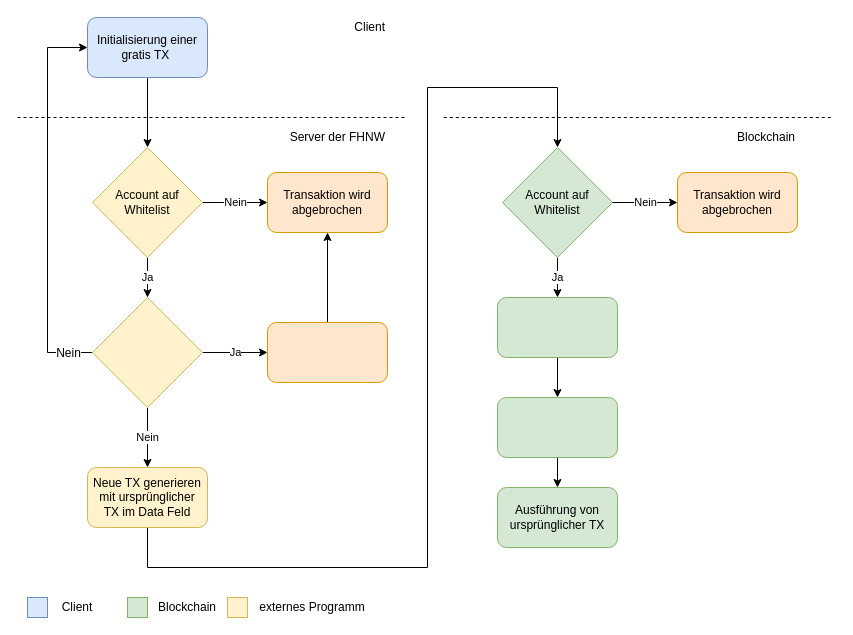
This 853x635 diagram has some shape labels left out. The shapes that lost their labels are listed below. From the top down, each one's box as (x1, y1, x2, y2) in pixels, then its label:
(496, 296, 618, 358): TX erreicht Smart Wallet
(92, 296, 202, 408): Gefahr von DoS Algorithmus detektiert?
(266, 322, 388, 382): Account wird von Whitelsit entfernt
(496, 396, 618, 458): Extrahieren von ursprünglicher TX
